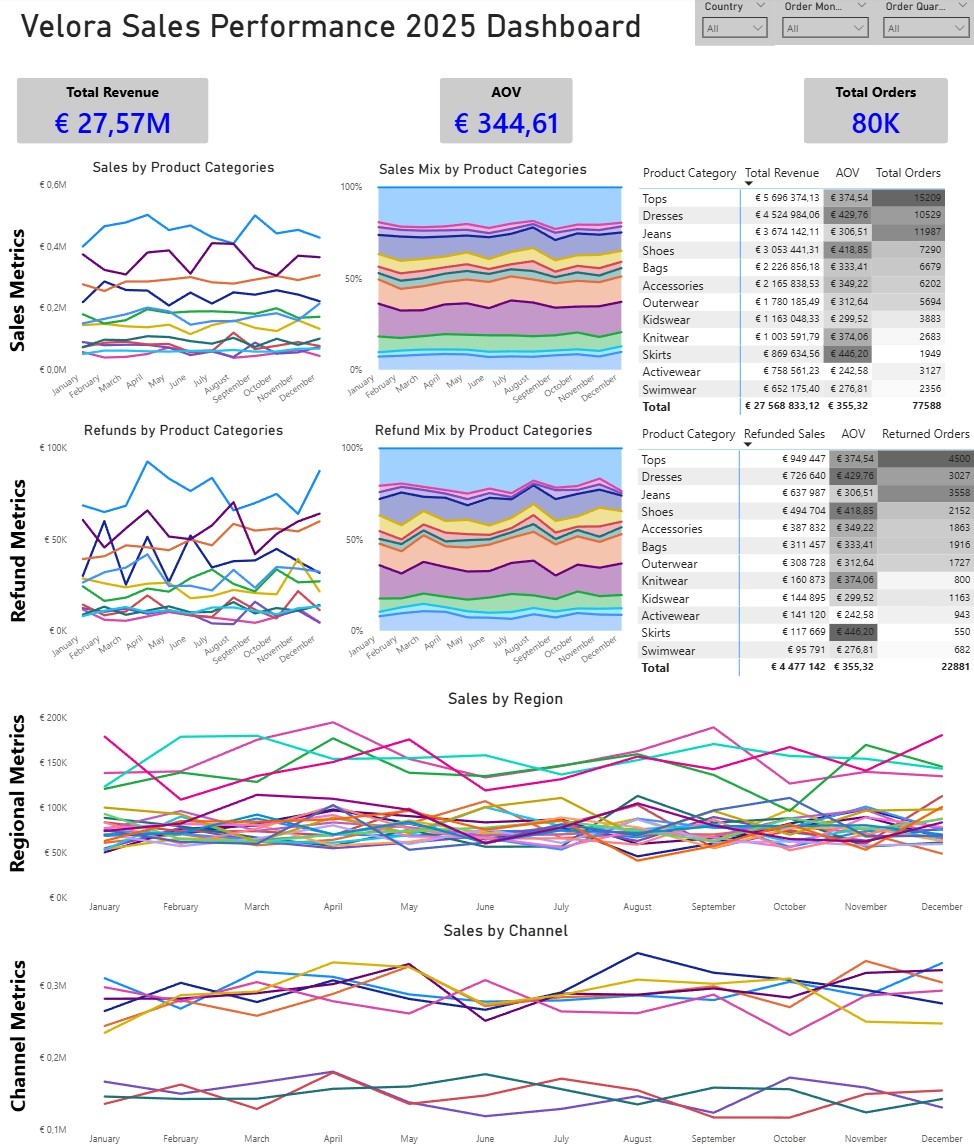

Layout of this report page (visuals, bound fields, positions):
{"tool":"powerbi","page":{"name":"Dashboard","canvas":[1300,1250],"ordinal":0},"visuals":[{"type":"slicer","fields":{"Values":["fact_orders.order_month"]},"box":[1032.8,0,133.9,65],"z":0},{"type":"slicer","fields":{"Values":["fact_orders.country"]},"box":[926.8,0,106.1,66.3],"z":1000},{"type":"slicer","fields":{"Values":["fact_orders.quarter_order"]},"box":[1166.7,0,133.9,65],"z":2000},{"type":"cardVisual","fields":{"Data":["_Measures.Total Revenue"]},"box":[10.4,91.9,288.6,121.3],"z":3000},{"type":"cardVisual","fields":{"Data":["_Measures.AOV"]},"box":[571,91.7,210.4,121.8],"z":4000},{"type":"cardVisual","fields":{"Data":["_Measures.Total Orders"]},"box":[1054.6,91.9,225.3,121.3],"z":5000},{"type":"textbox","box":[10.4,9.1,867,83.2],"z":6000},{"type":"lineChart","title":"Sales by Product Categories","fields":{"Y":["_Measures.Total Revenue"],"Series":["fact_product.product_category"],"Category":["fact_orders.order_timestamp.Variation.Date Hierarchy.Month"]},"box":[52.1,215.2,393.8,348.3],"z":7000},{"type":"hundredPercentStackedAreaChart","title":"Sales Mix by Product Categories","fields":{"Series":["fact_product.product_category"],"Y":["_Measures.Total Revenue"],"Category":["fact_orders.order_timestamp.Variation.Date Hierarchy.Month"]},"box":[445.9,217.4,400.4,346.1],"z":8000},{"type":"pivotTable","fields":{"Rows":["fact_product.product_category"],"Values":["_Measures.Total Revenue","_Measures.AOV","_Measures.Total Orders"]},"box":[846.8,217.8,453.5,345.7],"z":9000},{"type":"shape","title":"Sales Metrics","box":[0,250.7,52.1,279.5],"z":10000},{"type":"shape","title":"Sales Metrics","box":[1.1,596.7,51,278.4],"z":11000},{"type":"pivotTable","fields":{"Values":["_Measures.Refunded Sales","_Measures.AOV","_Measures.Returned Orders"],"Rows":["fact_product.product_category"]},"box":[846.3,563.5,471.4,346.1],"z":12000},{"type":"shape","title":"Sales Metrics","box":[0,918.4,52.1,278.4],"z":13000},{"type":"hundredPercentStackedAreaChart","title":"Refund Mix by Product Categories","fields":{"Series":["fact_product.product_category"],"Y":["_Measures.Refunded Sales"],"Category":["fact_orders.order_timestamp.Variation.Date Hierarchy.Month"]},"box":[447,563.5,399.3,346.1],"z":14000},{"type":"lineChart","title":"Refunds by Product Categories","fields":{"Series":["fact_product.product_category"],"Y":["_Measures.Refunded Sales"],"Category":["fact_orders.order_timestamp.Variation.Date Hierarchy.Month"]},"box":[52.1,563.5,393.8,346.1],"z":15000},{"type":"lineChart","title":"Sales by Region","fields":{"Category":["fact_orders.order_timestamp.Variation.Date Hierarchy.Month"],"Y":["_Measures.Total Revenue"],"Series":["fact_orders.country"]},"box":[52.1,918.4,1247.8,307.2],"z":16000}]}

Visuals, with their boxes on the page's 1300x1250 design canvas (x1, y1, x2, y2). These are canvas units, not pixel positions in the 974x1148 screenshot, which may show the page scaled, cropped or inside an application window:
slicer - fact_orders.order_month: crop(1033, 0, 1167, 65)
slicer - fact_orders.country: crop(927, 0, 1033, 66)
slicer - fact_orders.quarter_order: crop(1167, 0, 1301, 65)
cardVisual - _Measures.Total Revenue: crop(10, 92, 299, 213)
cardVisual - _Measures.AOV: crop(571, 92, 781, 214)
cardVisual - _Measures.Total Orders: crop(1055, 92, 1280, 213)
textbox: crop(10, 9, 877, 92)
"Sales by Product Categories" lineChart: crop(52, 215, 446, 564)
"Sales Mix by Product Categories" hundredPercentStackedAreaChart: crop(446, 217, 846, 564)
pivotTable - fact_product.product_category x _Measures.Total Revenue: crop(847, 218, 1300, 564)
"Sales Metrics" shape: crop(0, 251, 52, 530)
"Sales Metrics" shape: crop(1, 597, 52, 875)
pivotTable - _Measures.Refunded Sales x _Measures.AOV: crop(846, 564, 1318, 910)
"Sales Metrics" shape: crop(0, 918, 52, 1197)
"Refund Mix by Product Categories" hundredPercentStackedAreaChart: crop(447, 564, 846, 910)
"Refunds by Product Categories" lineChart: crop(52, 564, 446, 910)
"Sales by Region" lineChart: crop(52, 918, 1300, 1226)
